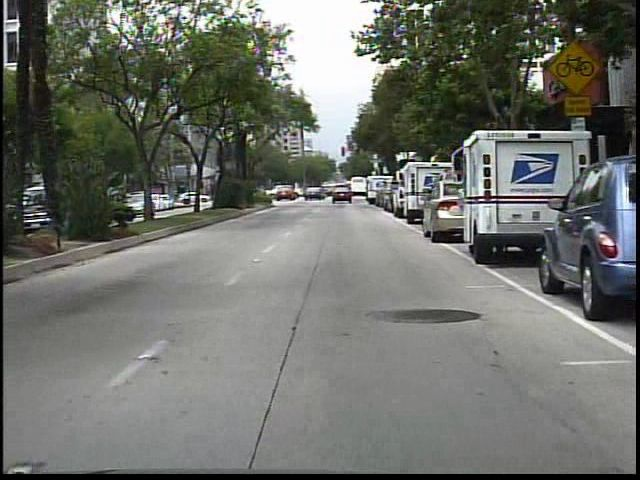person: (341, 183, 355, 203)
